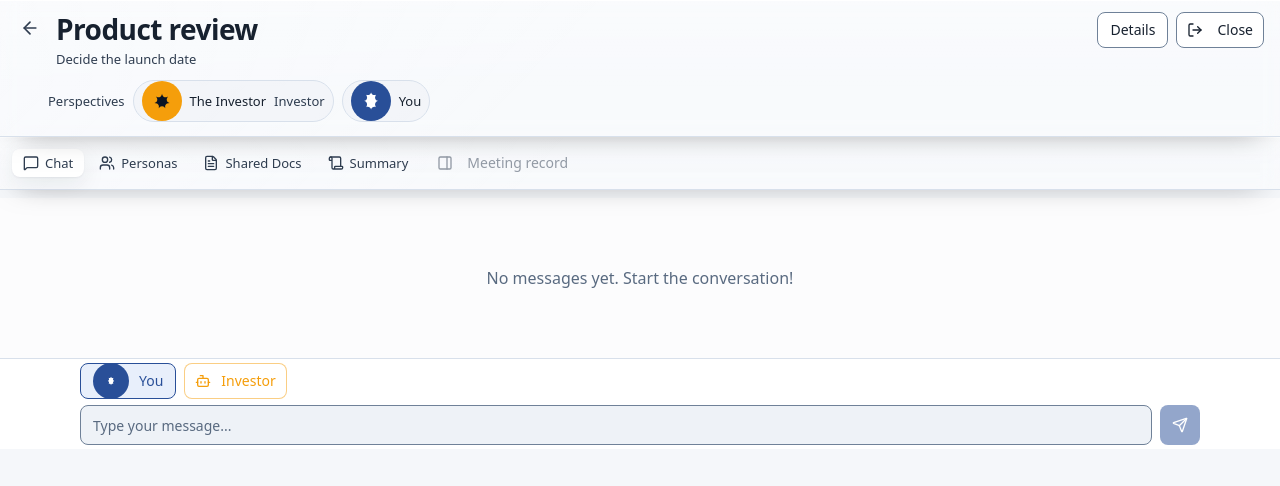
Test: MeetingRoom › keeps the draft when the save fails
Type "Do not lose me" into the field with placeholder "Type your message..." at [616, 425], box top-left (80, 405), bottom-right (1152, 445)
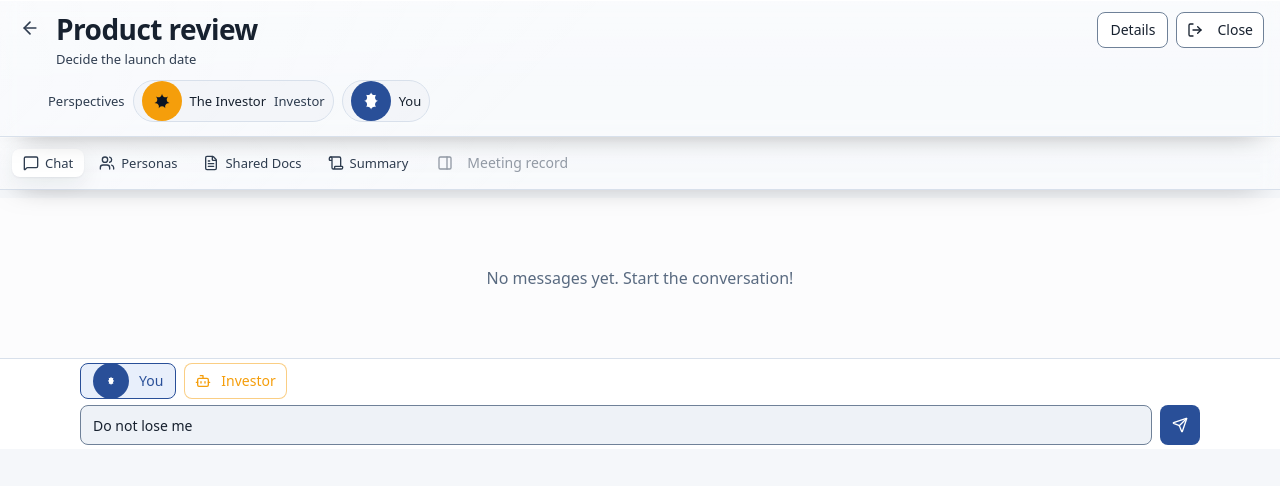
Click the button named "Send message" at [1180, 425], box top-left (1160, 405), bottom-right (1200, 445)
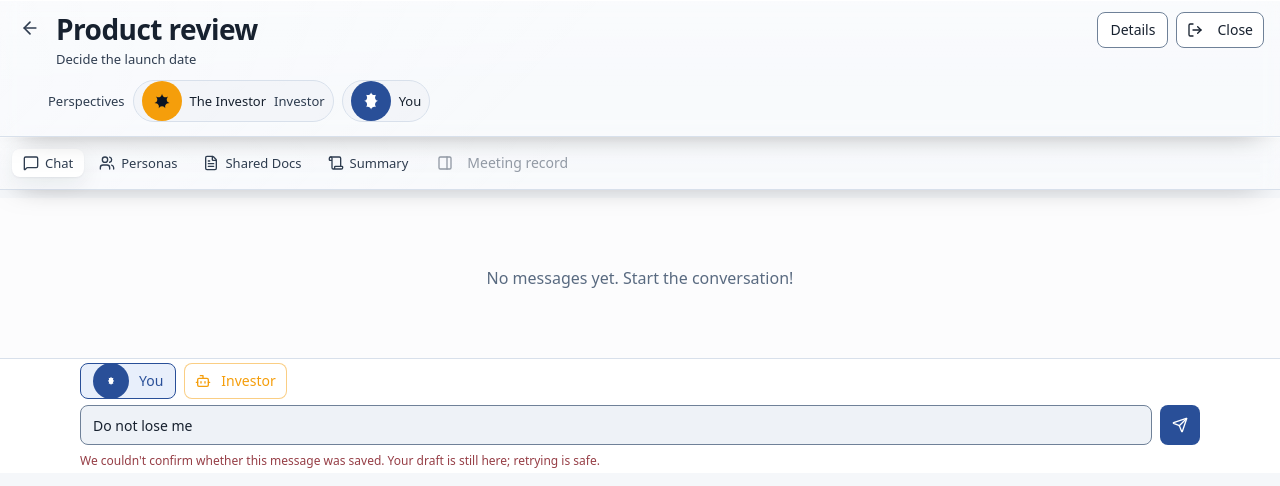
expect the text "We couldn't confirm whether this message was saved. Your draft is still here; retrying is safe." is shown: met, box top-left (80, 452), bottom-right (600, 469)
